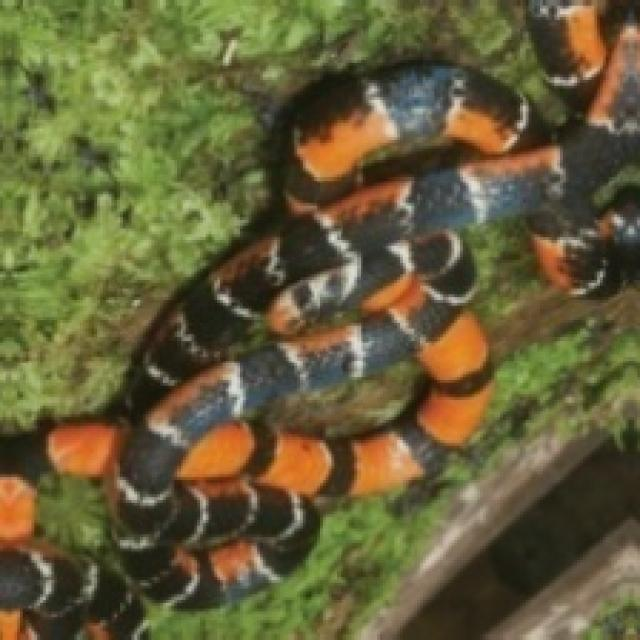barredcoral snake: (0, 1, 640, 639)
